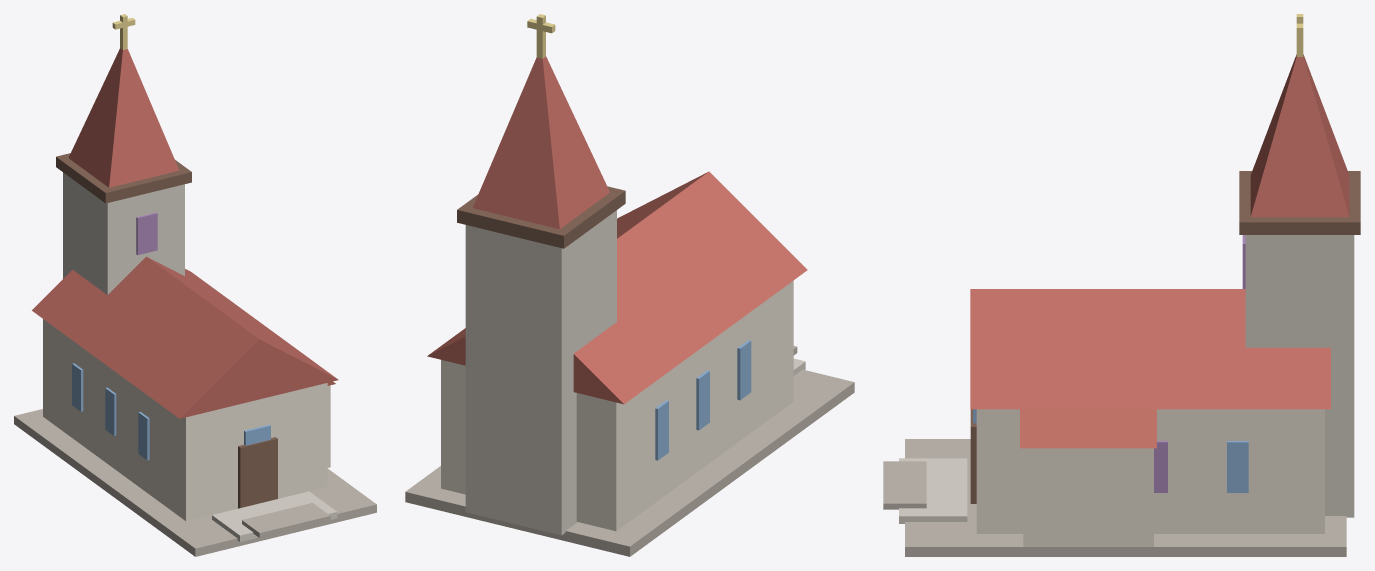
The model's file is chapel.glb.
3 renders of one model, left to right at view 1: azimuth 30°, elevation 25°; view 2: azimuth 150°, elevation 25°; view 3: azimuth 270°, elevation 25°, orthographic. The views are drawn at different scales.
Bounding box in the file's own units: 8.5 × 17.3 × 15.35.
